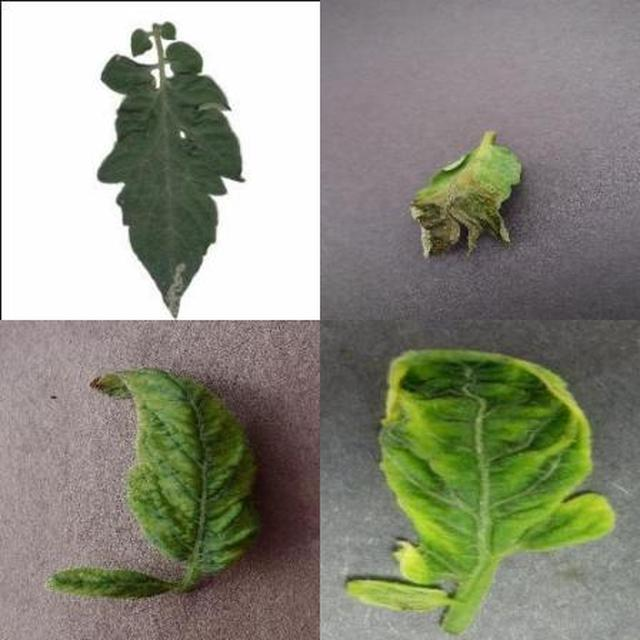Leaf Miner: (153, 54, 640, 640)
